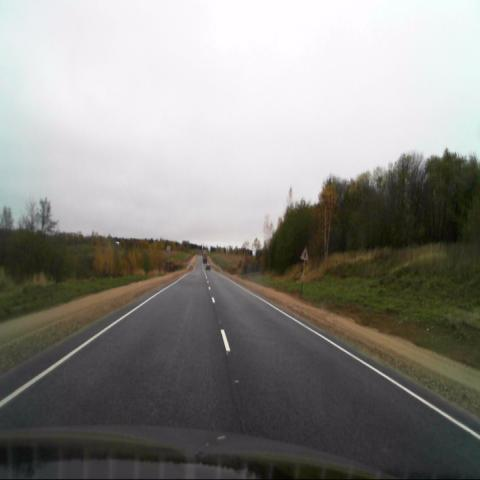2_3_3: (300, 245, 310, 262)
